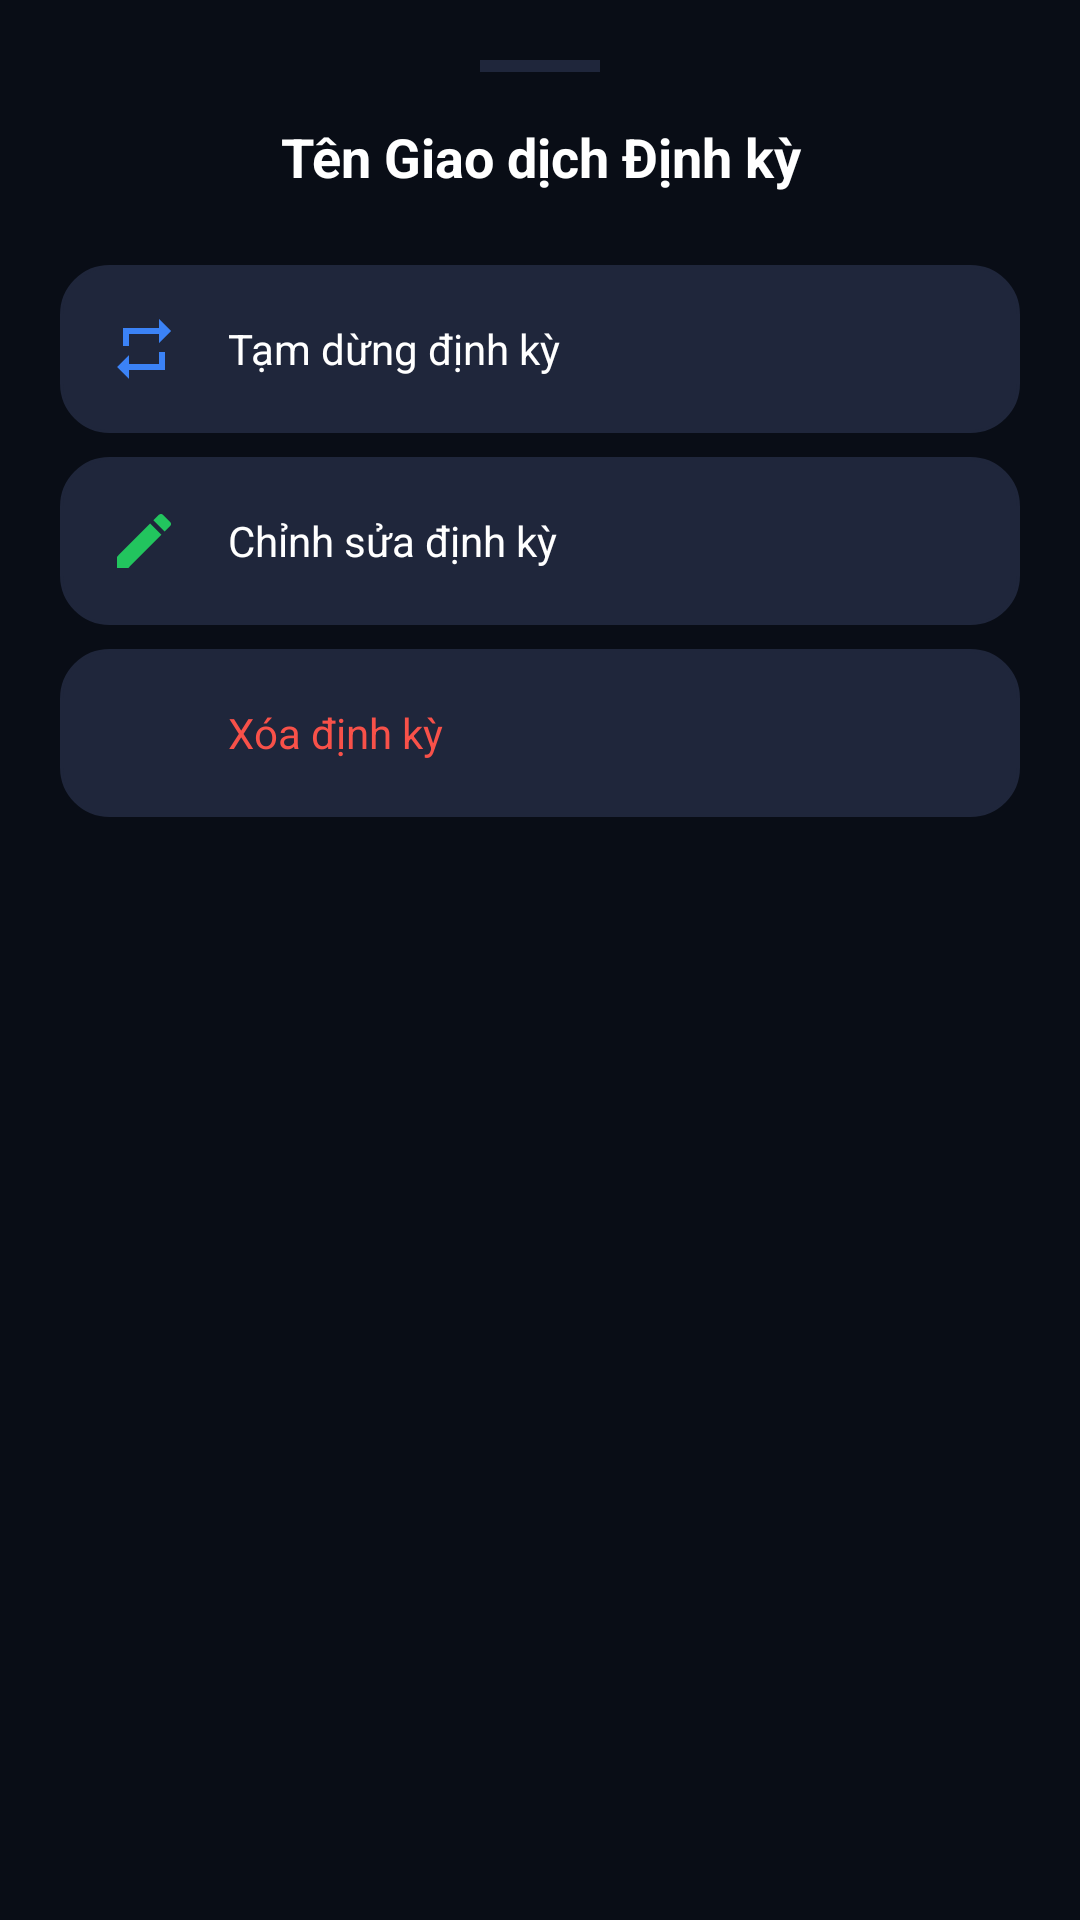

Locate icon controls on the screen. Image size 1080*1920, boxes as (x1, y1, x2, y2).
edit pencil: (117, 514, 171, 568)
recurring: (117, 319, 171, 379)
